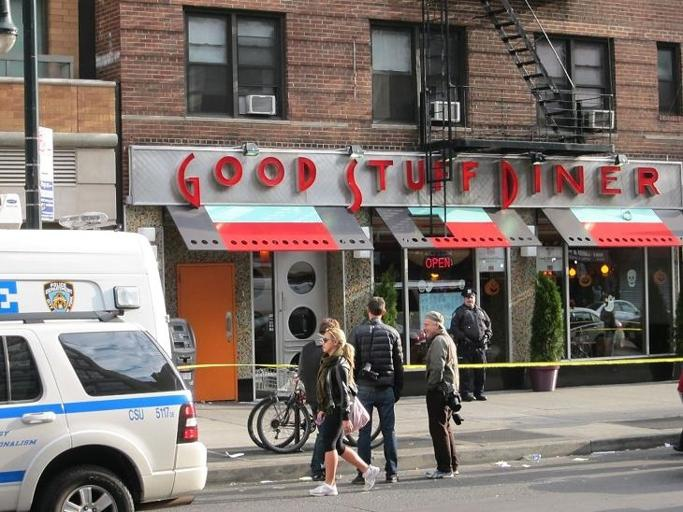non-vehicle: (246, 364, 381, 451), (256, 374, 388, 454)
